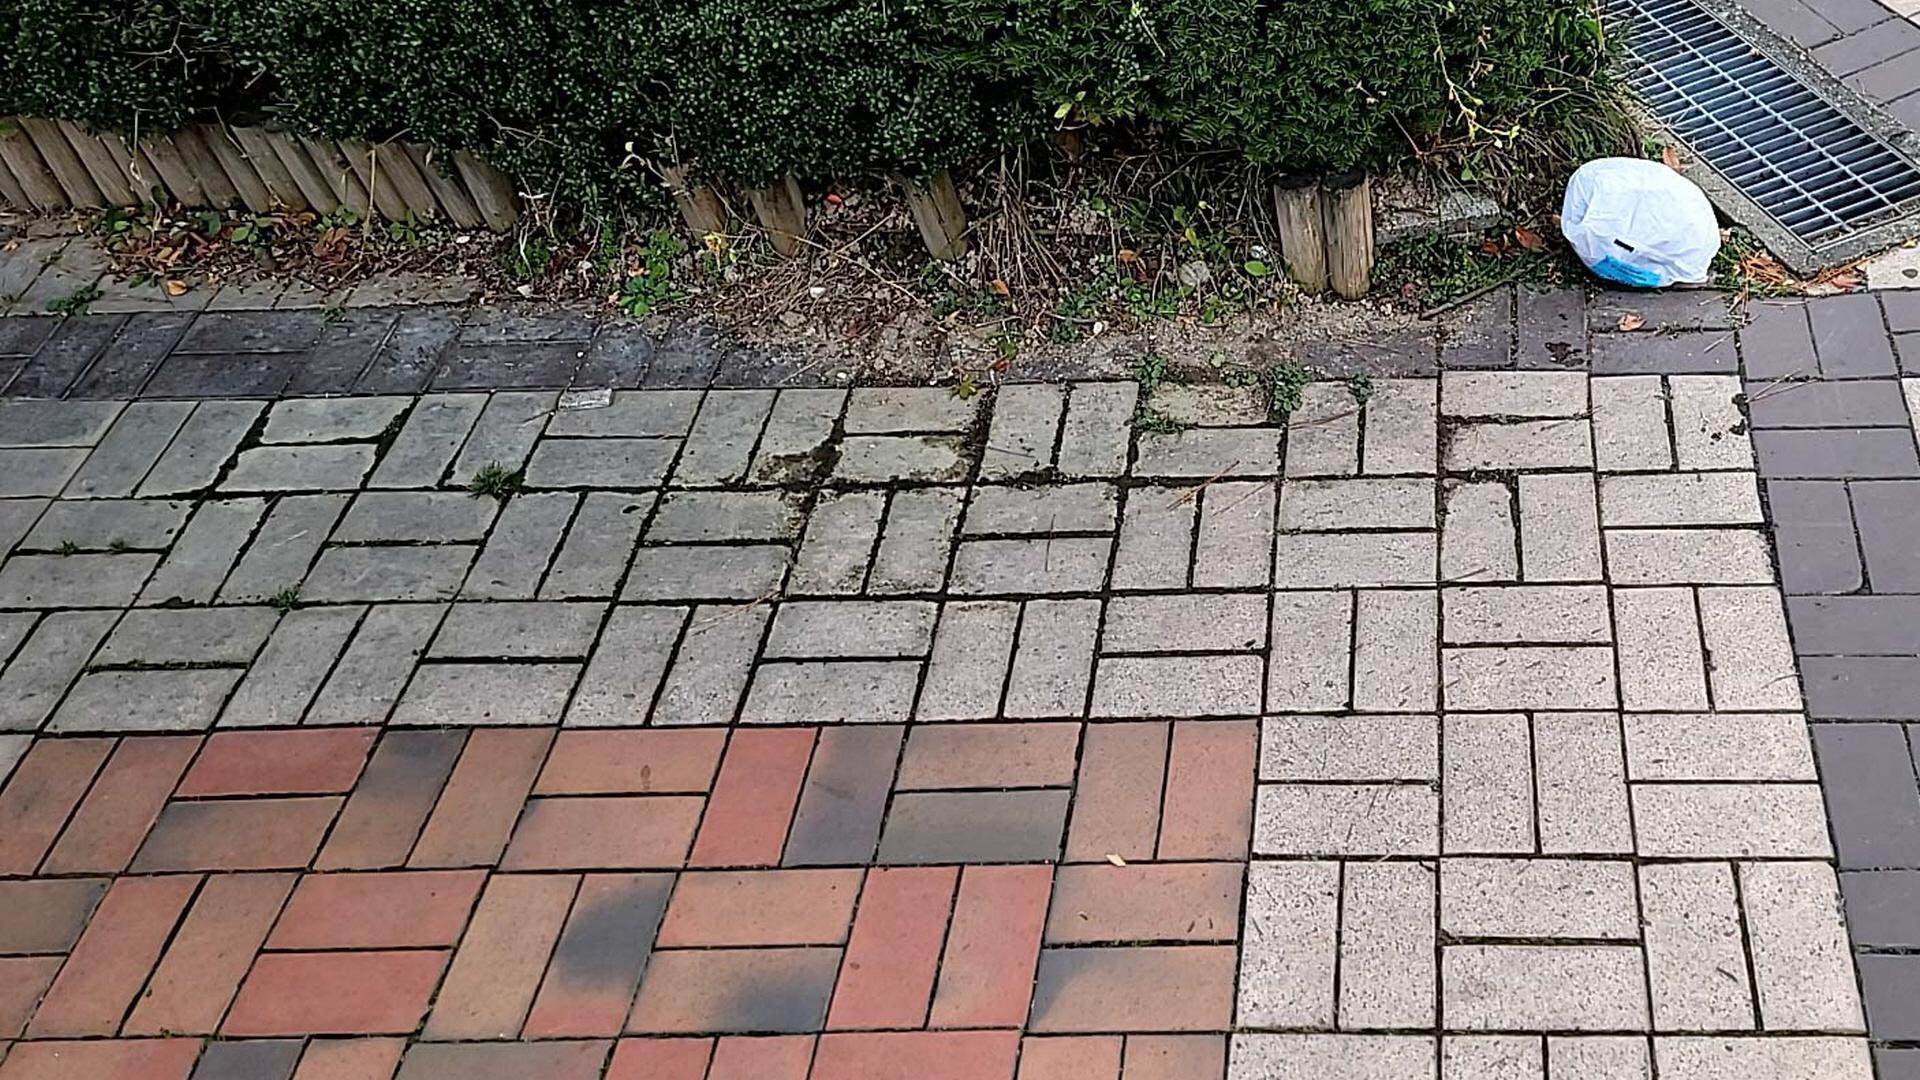white_bag: (1553, 158, 1724, 297)
